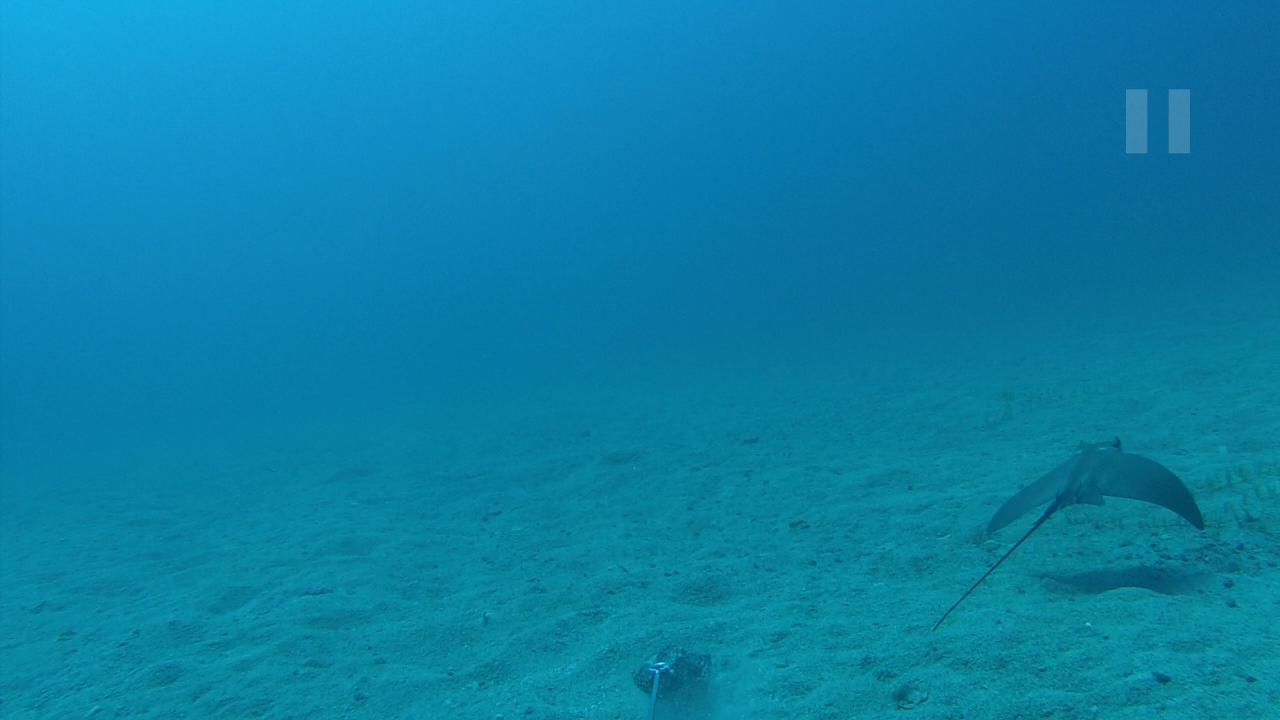dasyatis: (929, 437, 1208, 631)
